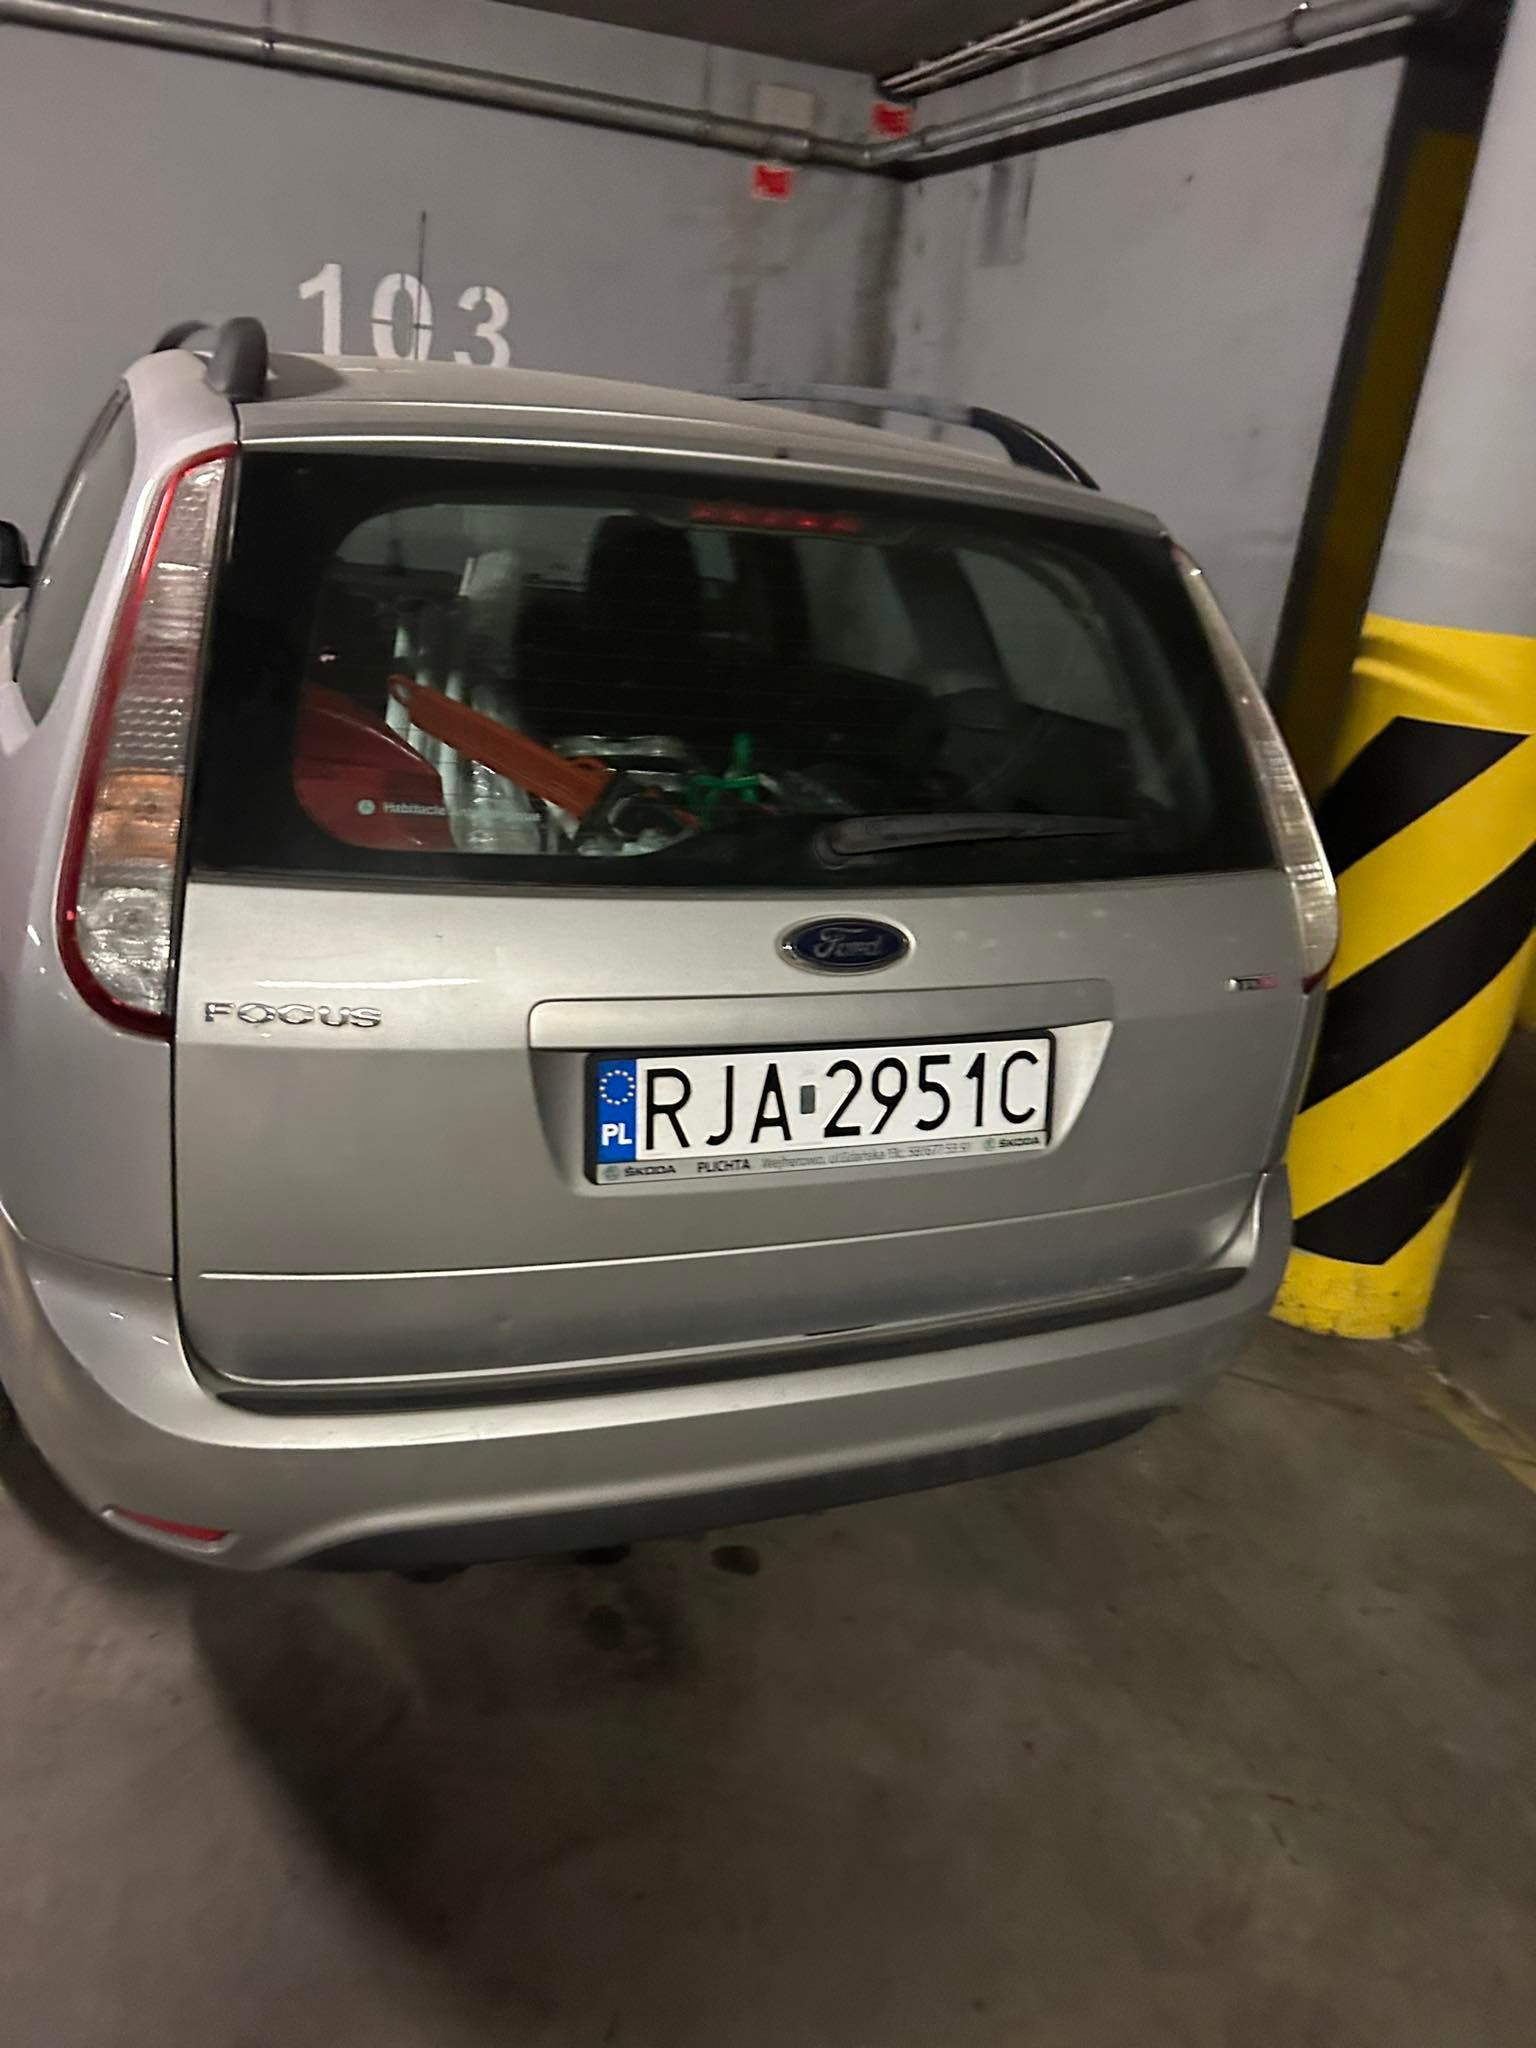number_plate: (583, 1034, 1059, 1179)
